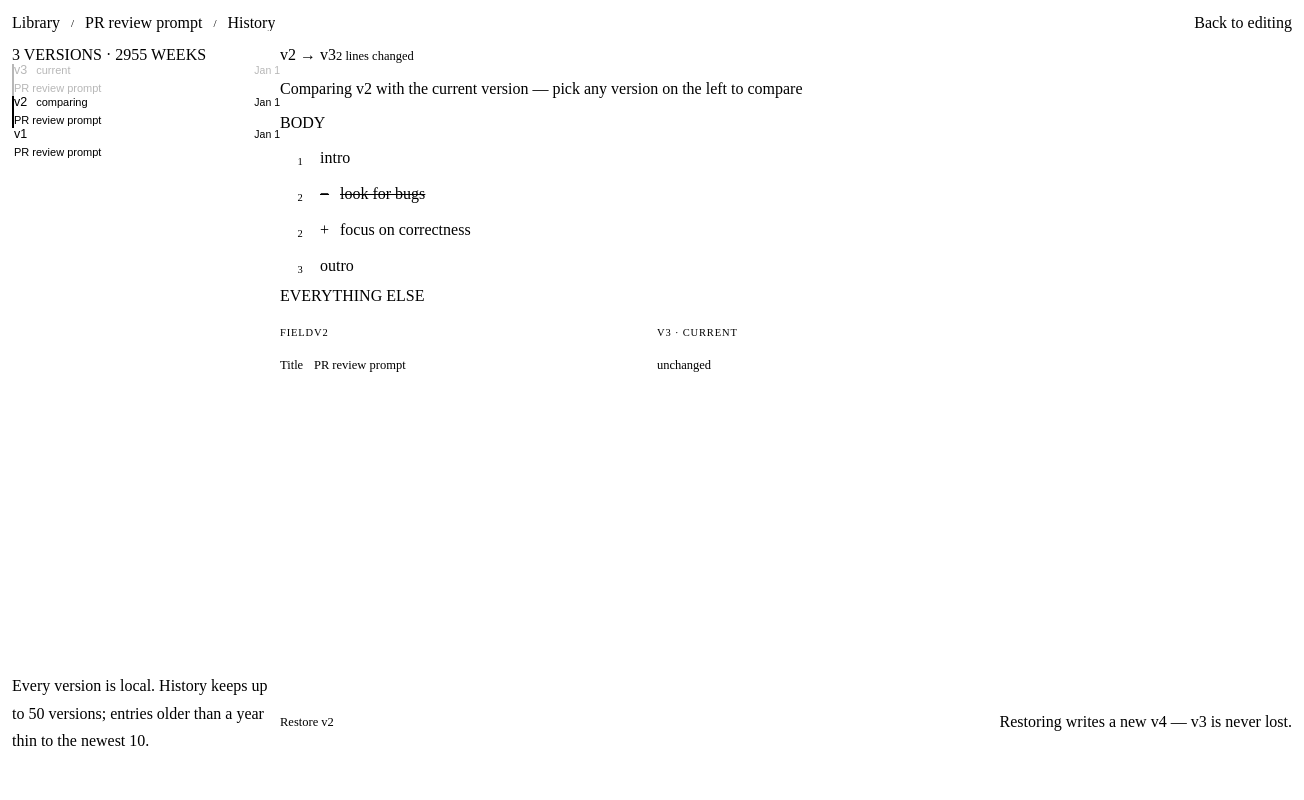
Scenario: HistoryPage › restores forward and reports the new version
The width and height of the screenshot is (1304, 800).
Click the button "Restore v2": (307, 722) [280,705,334,739]
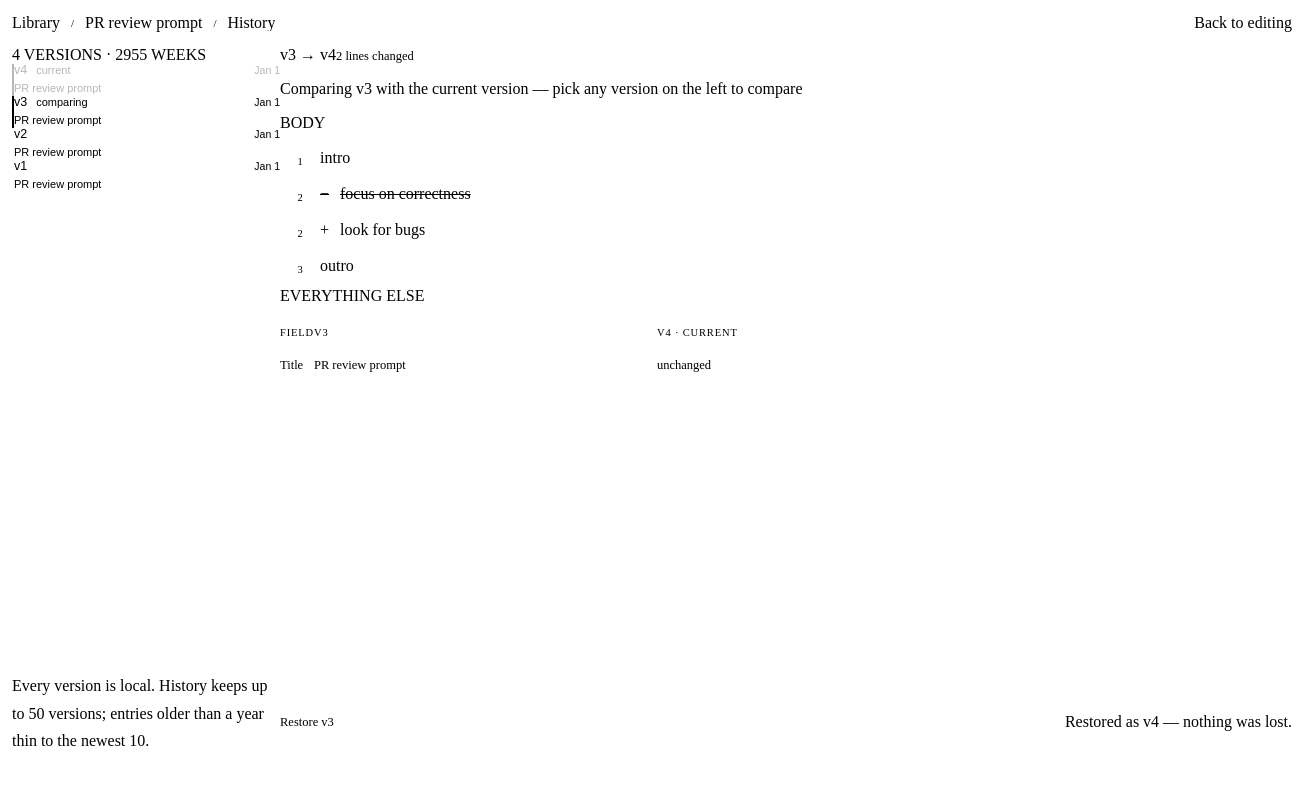
Expected: the text "Restored as v4 — nothing was lost." is shown, [1065,711,1292,733]
Expected: the text "v4" is shown, [14,64,27,76]
